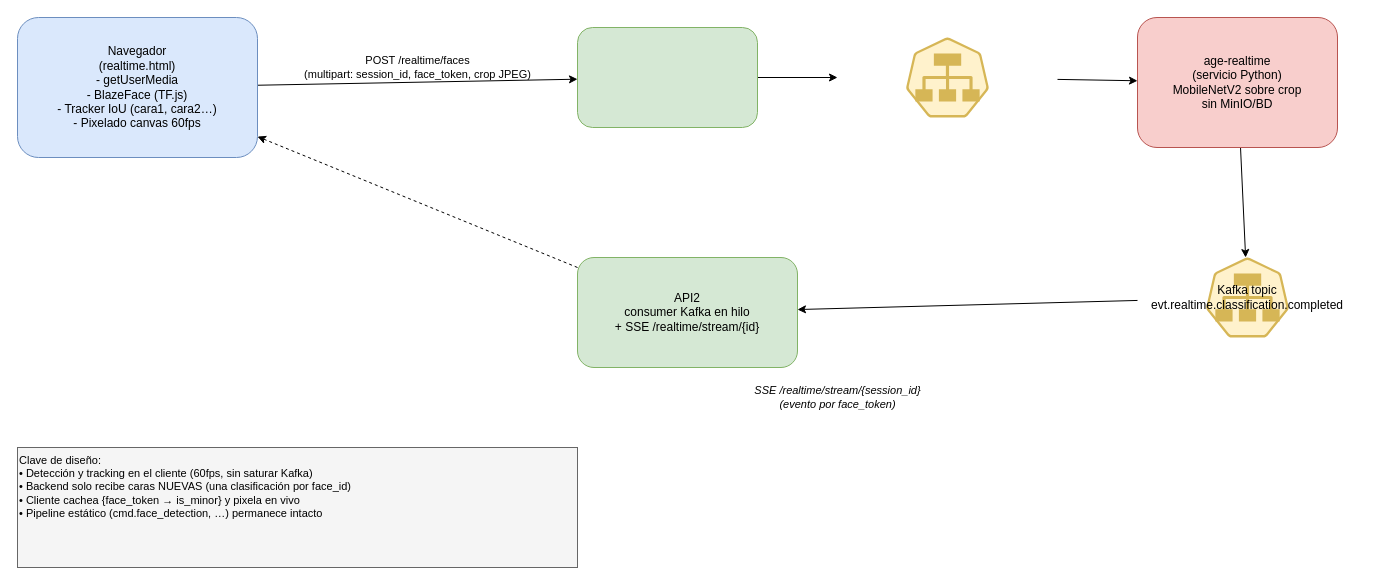
This 1375x585 diagram has some shape labels left out. The shapes that lost their labels are listed below. From the top down, each one's centre as x and y in pixels, then its label:
At point (667, 77): "API1 POST /realtime/faces (publica a Kafka)".
At point (947, 77): "Kafka topic cmd.realtime.classification".
